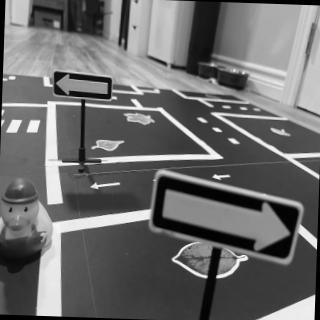duck_specialty: (1, 175, 58, 262)
road_crosswalk: (2, 115, 45, 138)
road_oneway: (89, 179, 125, 193), (211, 171, 235, 184)
sign_oneway_left: (53, 71, 117, 106)
sign_oneway_right: (146, 170, 308, 272)
